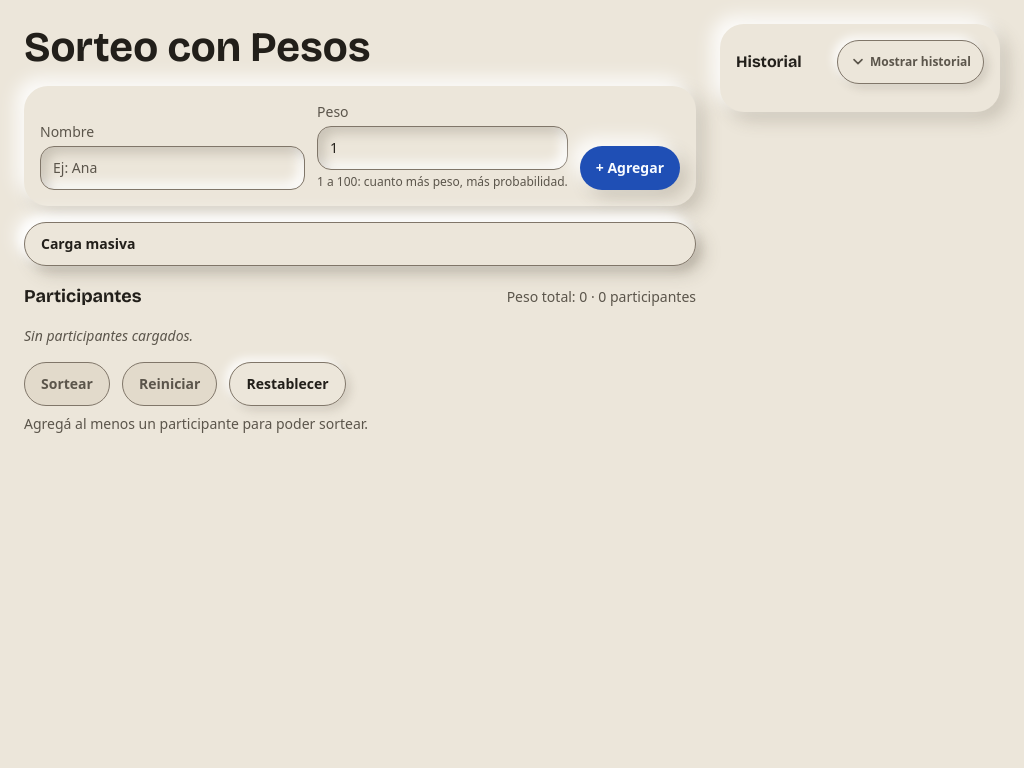
Test: WeightedPage — sorteo › sortea un participante y muestra ganador + probabilidad (100%)
Type "Ana" into the field labelled "Nombre" at point(172, 168), box [40, 146, 305, 190]
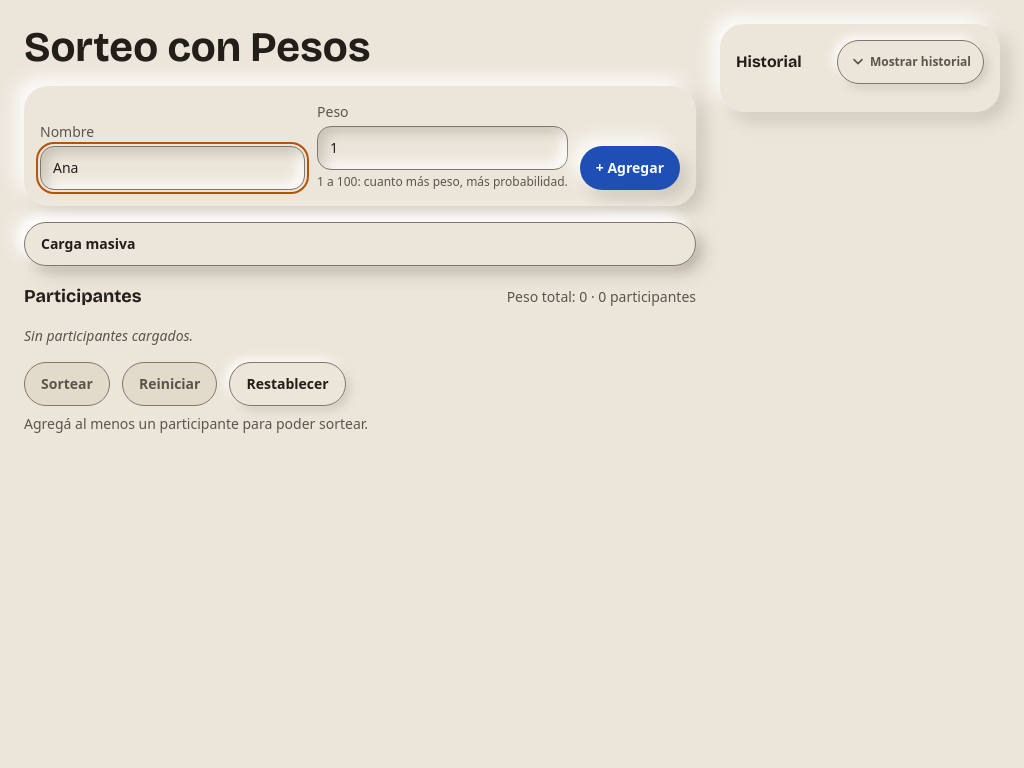
Replace the text in the number field labelled "Peso" with "5" at point(442, 148), box [317, 126, 568, 170]
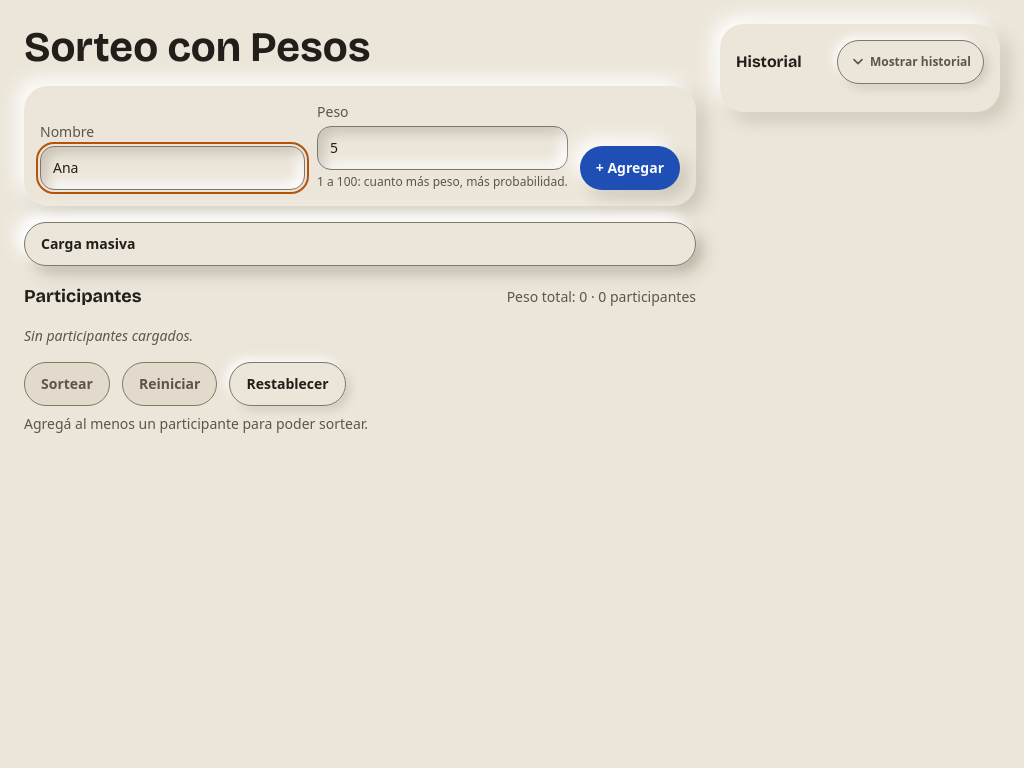
Click the button "+ Agregar" at point(630, 168), box [580, 146, 680, 190]
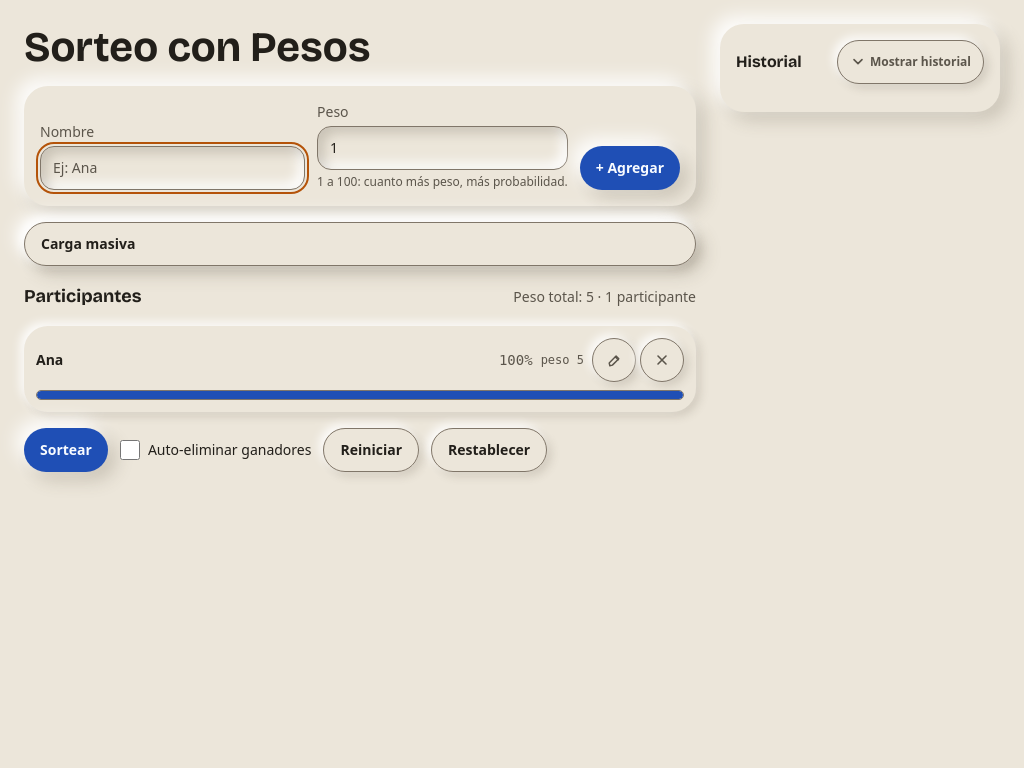
Click the button "Sortear" at point(66, 450), box [24, 428, 108, 472]
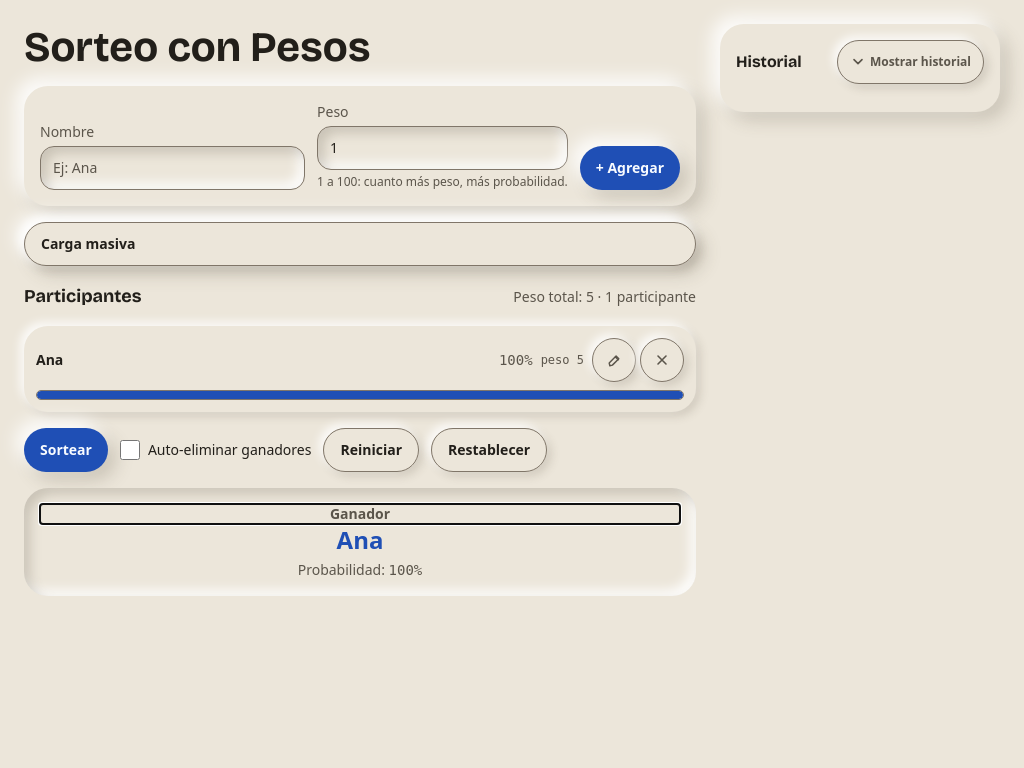
Expected: the element with id "weighted-result" shows "ana", [337, 523, 383, 556]
Expected: the element with id "weighted-result" shows "Probabilidad: 100%", [24, 488, 696, 596]
